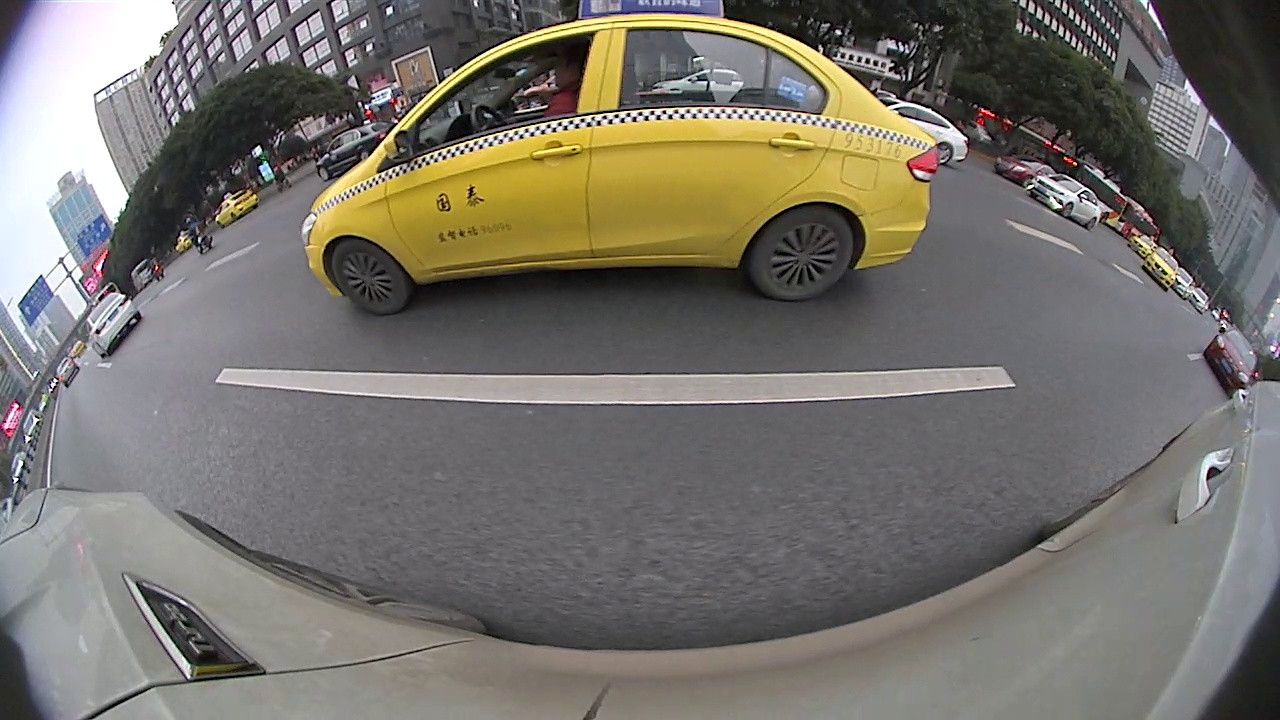car: (301, 2, 939, 316), (872, 97, 971, 166), (314, 120, 399, 181), (1028, 172, 1102, 232), (1203, 327, 1261, 400), (82, 290, 143, 358), (993, 152, 1059, 188), (213, 186, 259, 230), (1141, 244, 1180, 291)
front: (326, 242, 404, 313)
rear: (753, 207, 851, 303), (933, 142, 950, 163)
rider: (186, 213, 215, 253)
